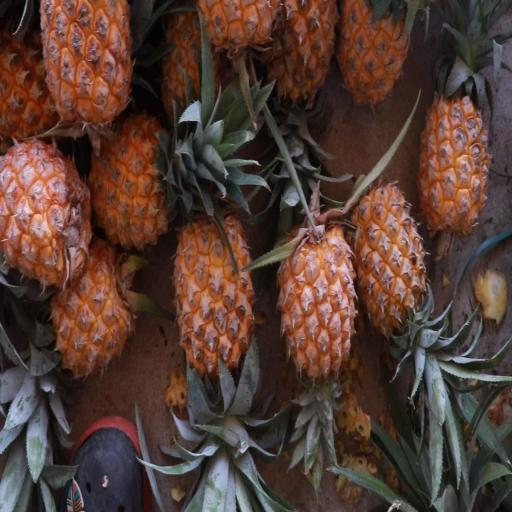Pineapple - v8 v1: (87, 109, 211, 256), (172, 206, 258, 416), (346, 173, 432, 366), (276, 216, 364, 400), (38, 1, 137, 157), (0, 128, 93, 293), (414, 58, 493, 248), (48, 228, 142, 383), (335, 0, 415, 118)
